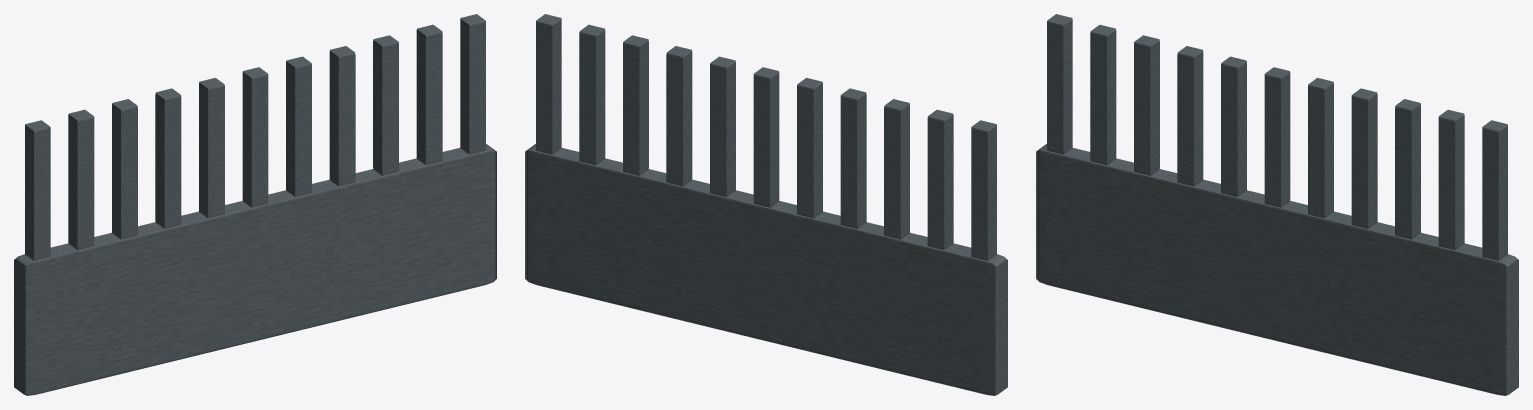
File: pegboard.glb
3 renders of one model, left to right at view 1: azimuth 30°, elevation 25°; view 2: azimuth 150°, elevation 25°; view 3: azimuth 330°, elevation 25°, orthographic.
Parts seen in each view (by area): view 1: rim, slat (×11); view 2: rim, slat (×11); view 3: rim, slat (×11).
Part boxes in pixels (bbox=[...]): rim: bbox=[14, 144, 496, 395]; slat (×11): bbox=[25, 14, 485, 260]; rim: bbox=[525, 144, 1007, 395]; slat (×11): bbox=[536, 14, 996, 260]; rim: bbox=[1036, 144, 1518, 395]; slat (×11): bbox=[1047, 14, 1507, 260].
Bounding box in the file's own units: 1.2 × 0.6402 × 0.045.
Materials: 1 (1 with a texture image).
